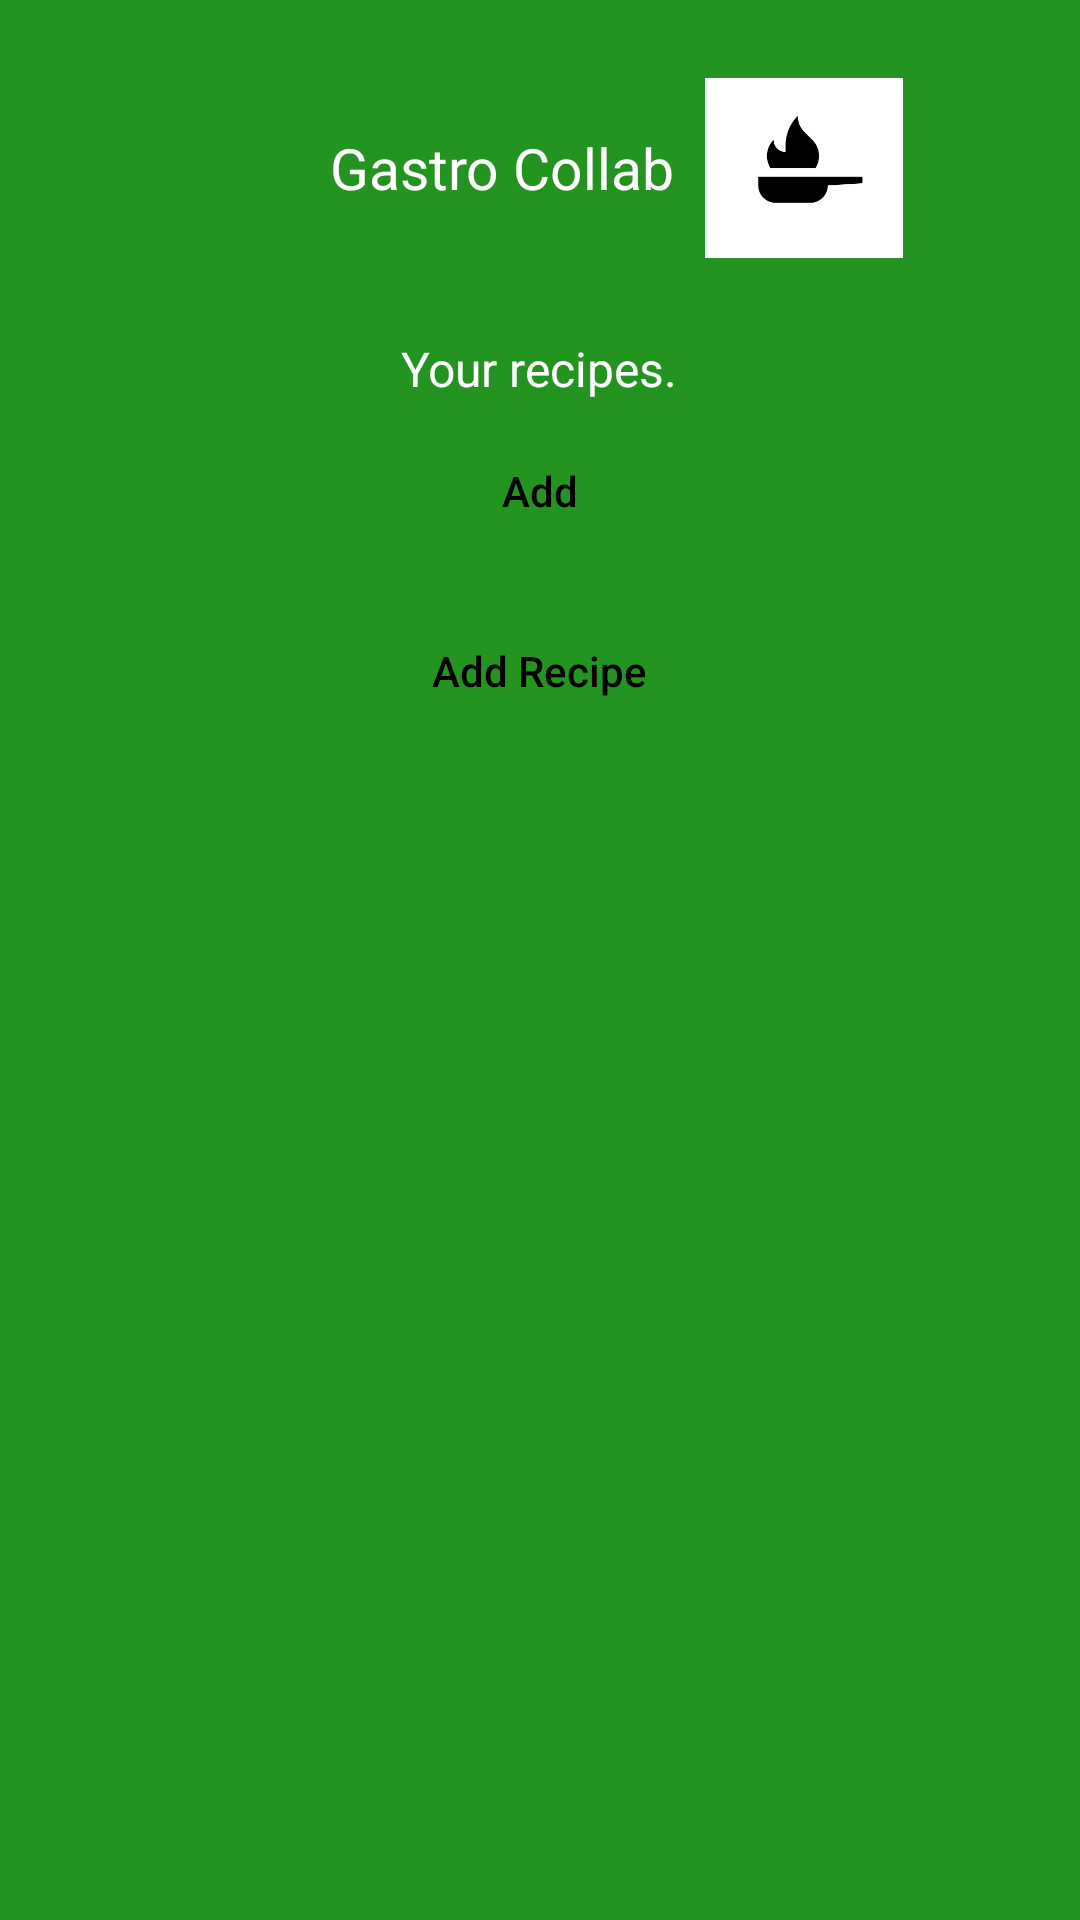

Where icons sit on this 1080 x 1920 app screen, as bbox=[x1, y1, x2, y2]:
pan: bbox=[705, 78, 903, 258]
